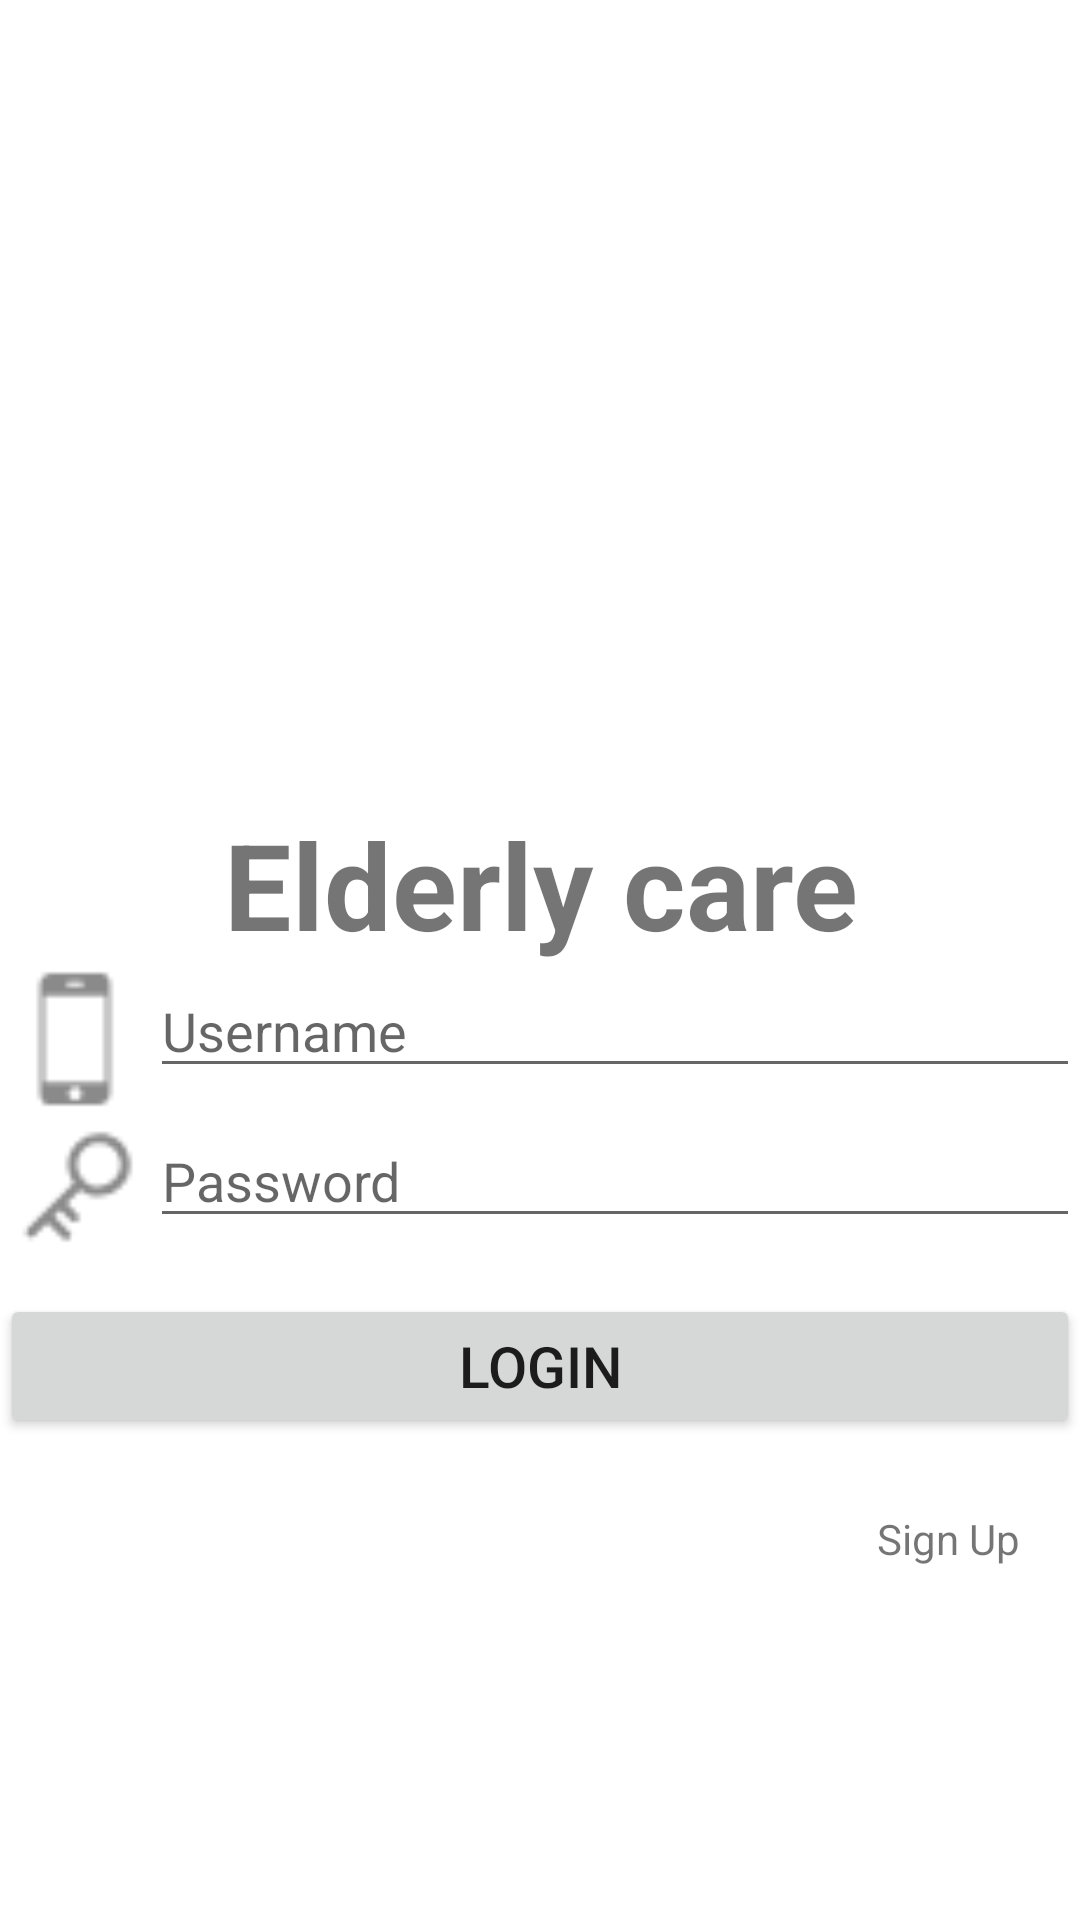

Where to tap for icons on this 1080*1920 app screen, as (x=x, y=y):
key: (x=78, y=1186)
phone: (x=75, y=1039)
